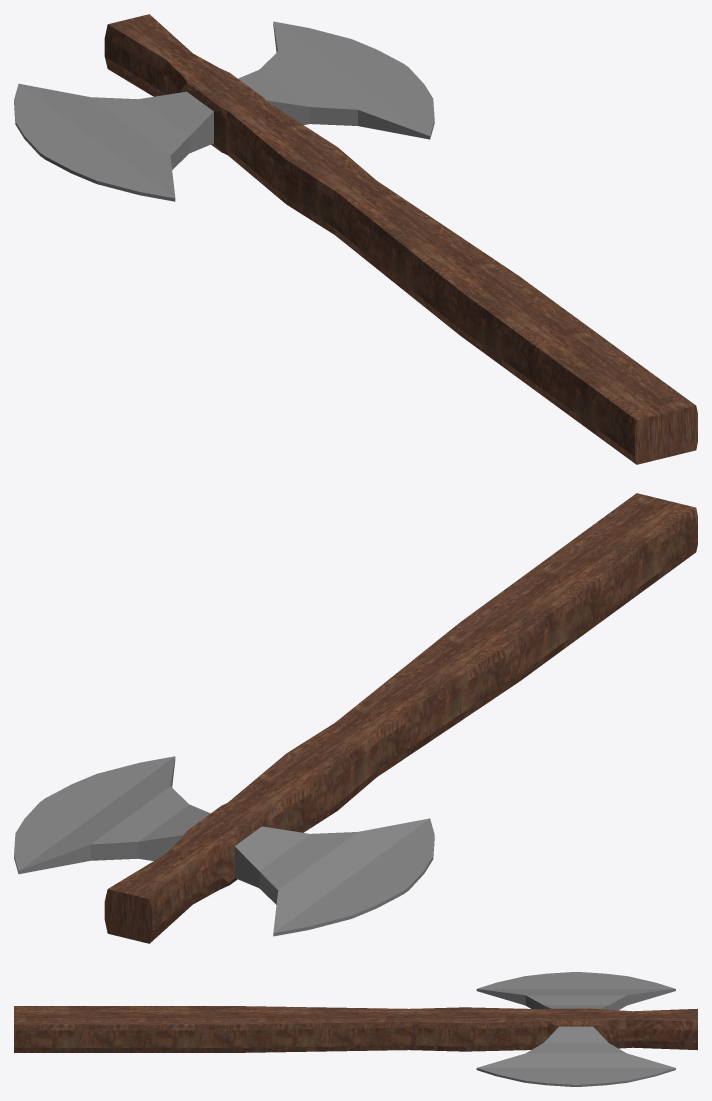
Rendered from axe.glb.
3 views of the same model, one above another, from view 1: azimuth 30°, elevation 25°; view 2: azimuth 150°, elevation 25°; view 3: azimuth 270°, elevation 25° (orthographic). The views are drawn at different scales.
Parts seen in each view (by area): view 1: Plane; view 2: Plane; view 3: Plane.
Part boxes in pixels (box(x1,y1,x2,y2)): Plane: box(14, 14, 697, 464); Plane: box(14, 493, 697, 943); Plane: box(14, 972, 697, 1086).
Bounding box in the file's own units: 2.37 × 0.2783 × 6.08.
Materials: 2 (1 with a texture image).
